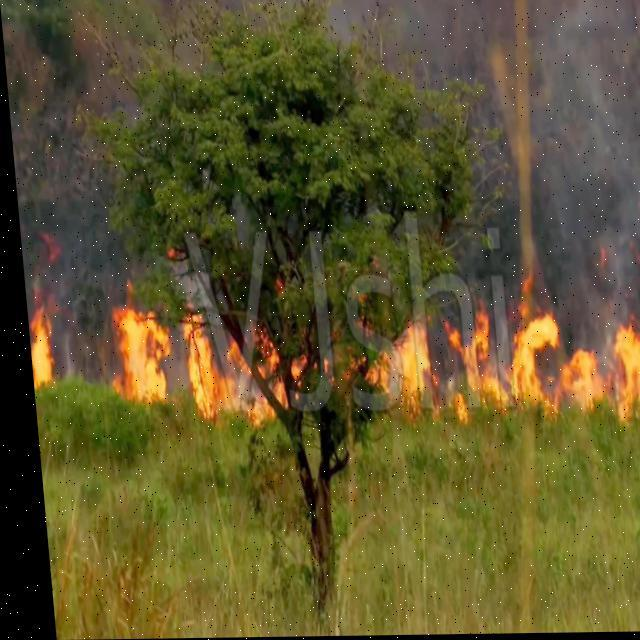Fire: (442, 308, 639, 424), (173, 308, 294, 433), (359, 312, 434, 428), (92, 292, 164, 406), (22, 302, 54, 394)
